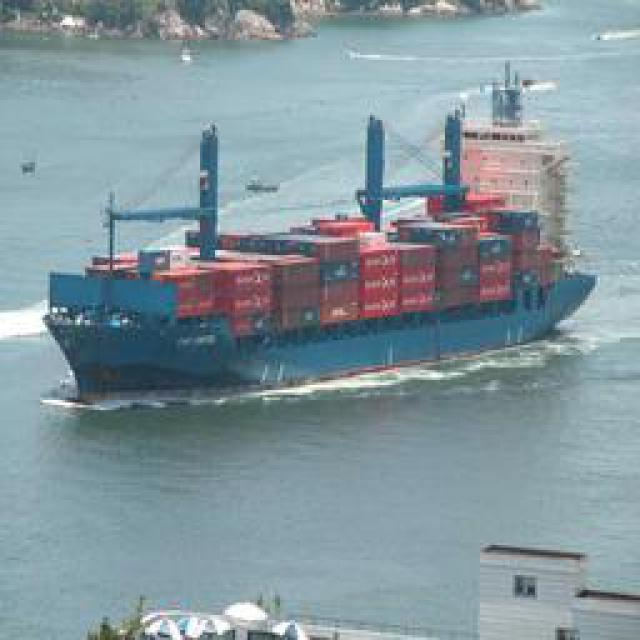Ship: (41, 58, 603, 412), (243, 174, 282, 196), (180, 38, 202, 67), (18, 157, 38, 179)
